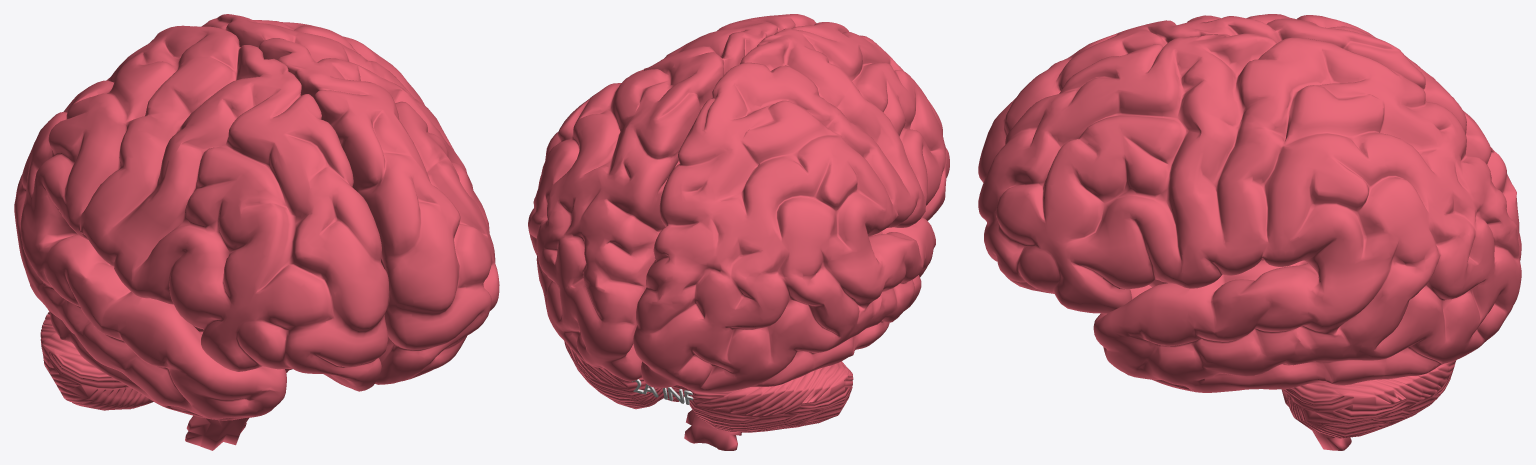
File: brain (2).glb
3 views of the same model, side by side, from view 1: azimuth 30°, elevation 25°; view 2: azimuth 150°, elevation 25°; view 3: azimuth 270°, elevation 25° (orthographic). The views are drawn at different scales.
Visible parts, largest first — view 1: Brain_Part_02; view 2: Brain_Part_02; view 3: Brain_Part_02.
Boxes of the visible parts, box(x1,y1,x2,y2) form: Brain_Part_02: box(14, 14, 499, 450); Brain_Part_02: box(528, 14, 949, 450); Brain_Part_02: box(978, 14, 1521, 450).
Bounding box in the file's own units: 0.3796 × 0.4021 × 0.4729.
